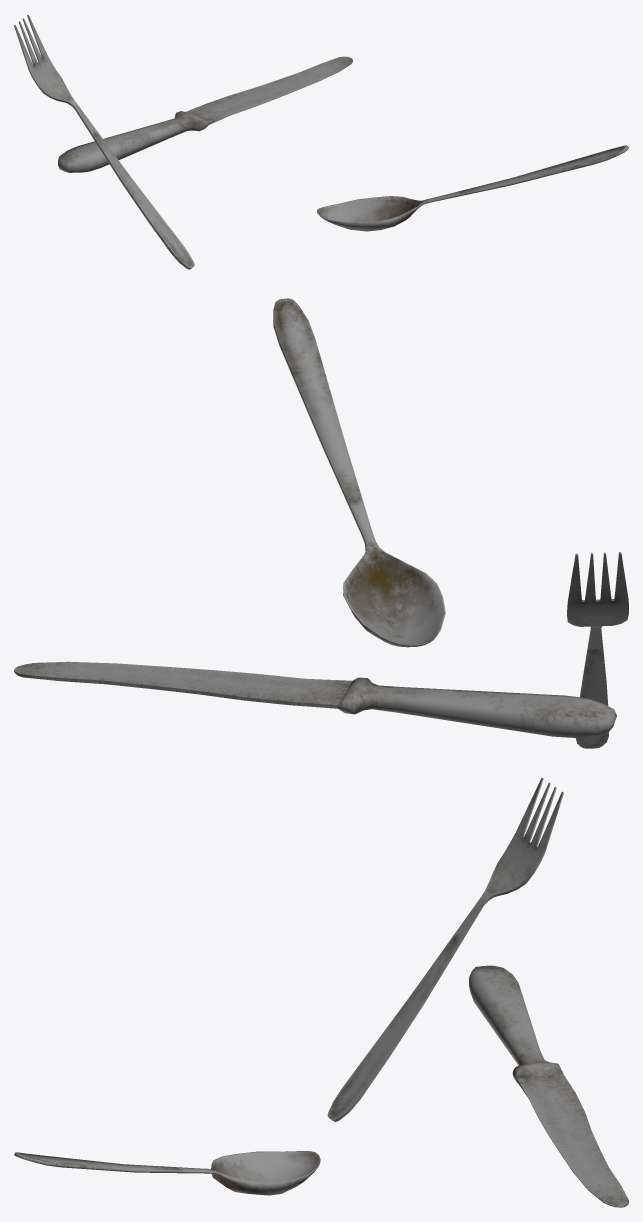
Rendered from Sink01_add02.FBX.
3 views of the same model, one above another, from view 1: azimuth 30°, elevation 25°; view 2: azimuth 150°, elevation 25°; view 3: azimuth 270°, elevation 25° (orthographic). The views are drawn at different scales.
Visible parts, largest first — view 1: Sink01_add02_LOD0; view 2: Sink01_add02_LOD0; view 3: Sink01_add02_LOD0.
Boxes of the visible parts, box(x1,y1,x2,y2) form: Sink01_add02_LOD0: box(14, 14, 628, 269); Sink01_add02_LOD0: box(14, 298, 628, 748); Sink01_add02_LOD0: box(14, 778, 628, 1207).
Bounding box in the file's own units: 26.09 × 24.85 × 12.45.
